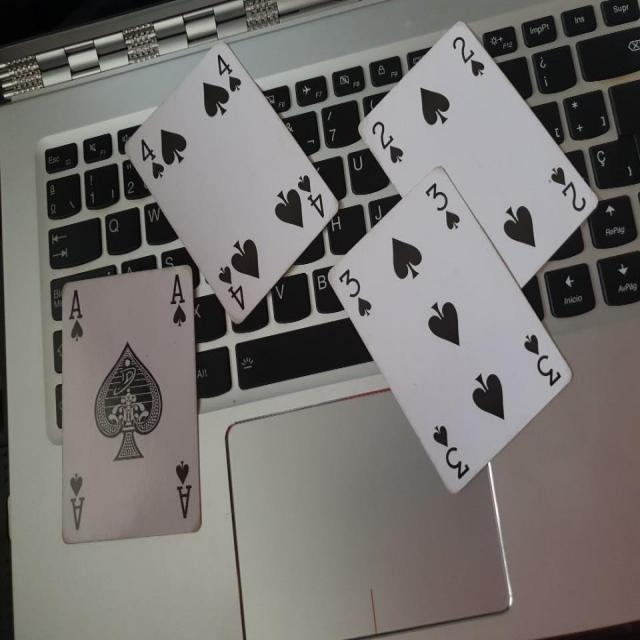2 Spades: (347, 16, 598, 280)
3 Spades: (318, 164, 579, 504)
4 Spades: (123, 40, 343, 334)
A Spades: (53, 261, 203, 551)
